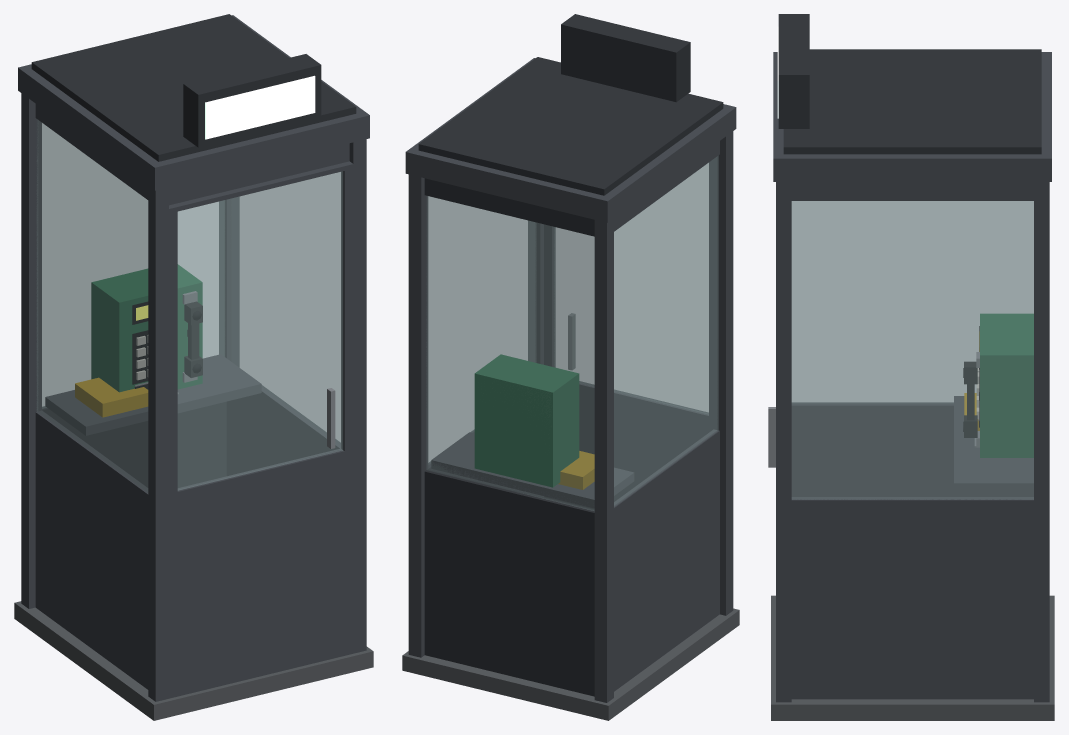
The model's file is payphone_booth_low.glb.
The picture shows the model from 3 angles, left to right: view 1: azimuth 30°, elevation 25°; view 2: azimuth 150°, elevation 25°; view 3: azimuth 270°, elevation 25°; orthographic projection. The views are drawn at different scales.
Visible parts, largest first — view 1: payphone_low; view 2: payphone_low; view 3: payphone_low.
Boxes of the visible parts, x1=… form: payphone_low: x1=14, y1=14, x2=373, y2=720; payphone_low: x1=402, y1=14, x2=739, y2=720; payphone_low: x1=768, y1=14, x2=1054, y2=720.
Size of the model in its own units: 1 by 2.66 by 1.11.
